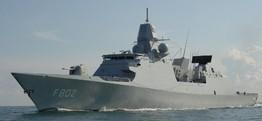warship: (10, 15, 260, 112)
